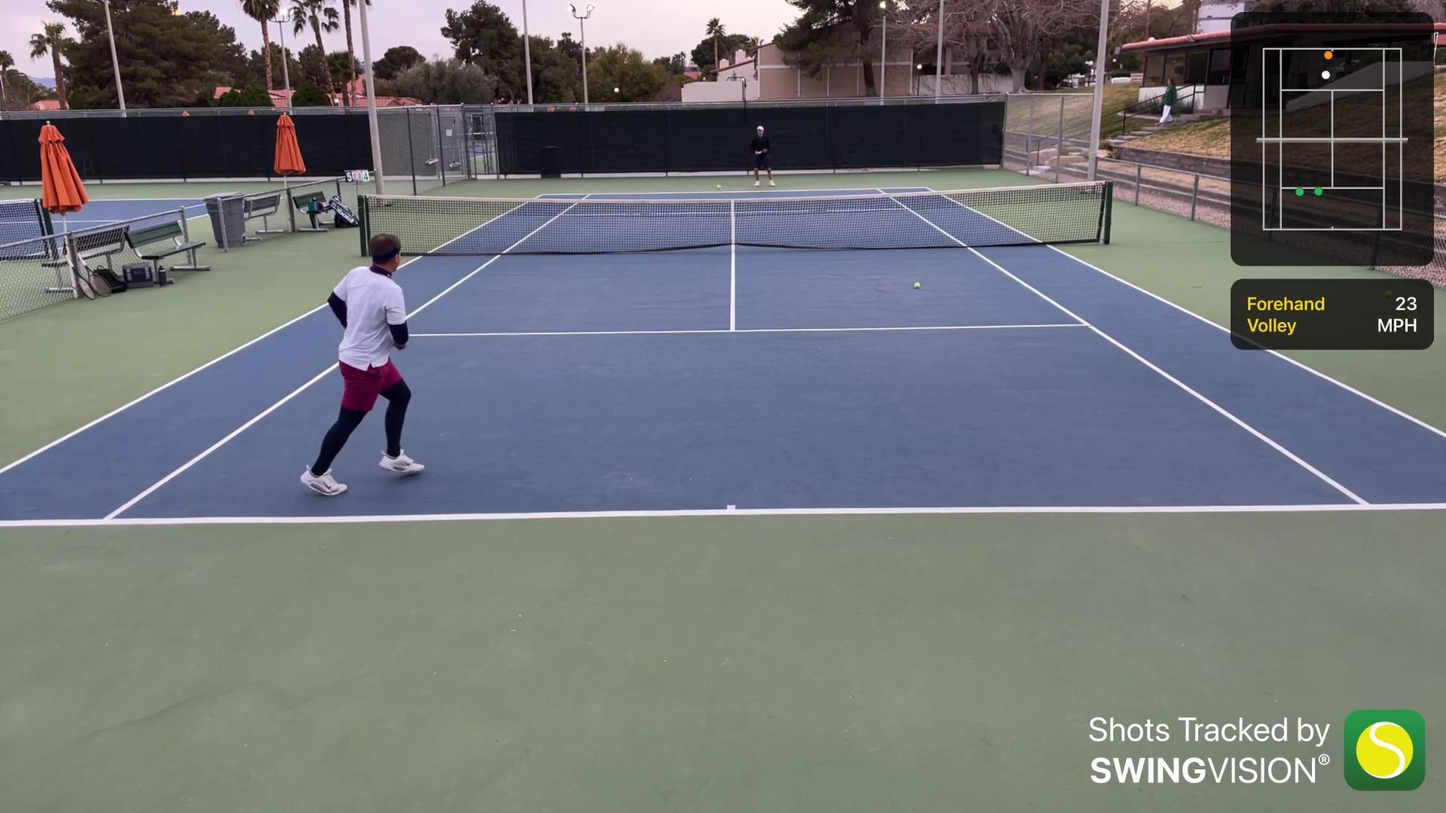ball: (913, 281, 921, 289), (715, 183, 724, 190)
